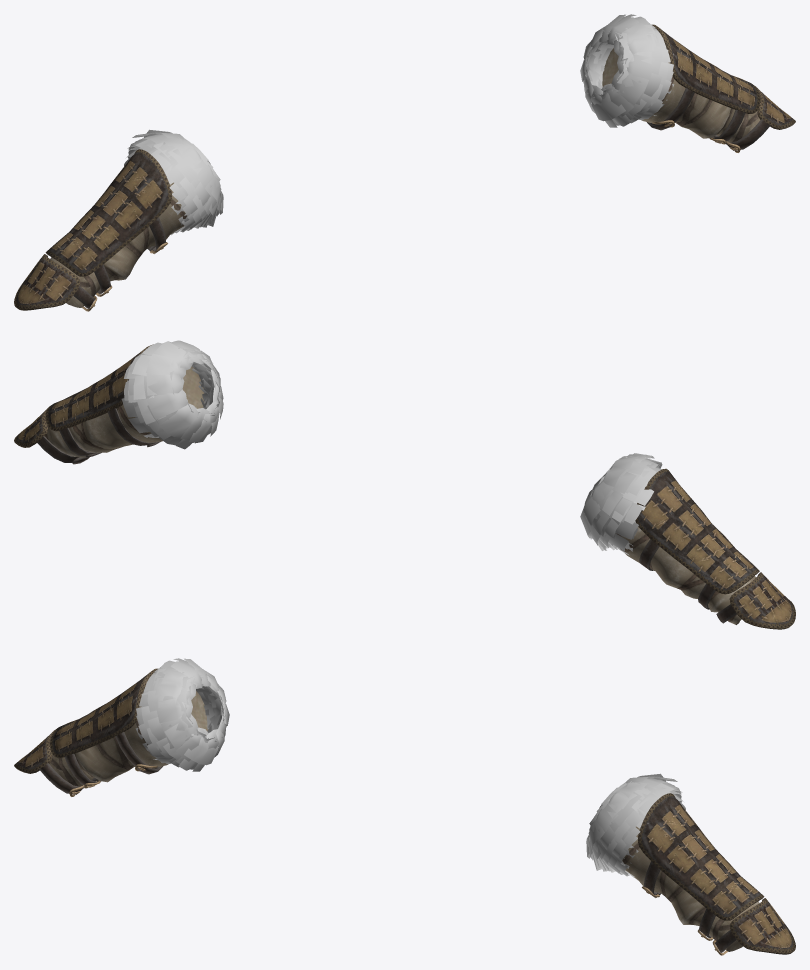
File: dunland_wulf_bracer_heavy_e.fbx
The picture shows the model from 3 angles, top to bottom: view 1: azimuth 30°, elevation 25°; view 2: azimuth 150°, elevation 25°; view 3: azimuth 330°, elevation 25°; orthographic projection.
Visible parts, largest first — view 1: dunland_wulf_bracer_heavy_e.0, dunland_wulf_bracer_heavy_e.1; view 2: dunland_wulf_bracer_heavy_e.0, dunland_wulf_bracer_heavy_e.1; view 3: dunland_wulf_bracer_heavy_e.0, dunland_wulf_bracer_heavy_e.1.
Part boxes in pixels (x1,y1,x2,y2): dunland_wulf_bracer_heavy_e.0: [14, 24, 795, 311]; dunland_wulf_bracer_heavy_e.1: [124, 14, 674, 235]; dunland_wulf_bracer_heavy_e.0: [14, 344, 795, 629]; dunland_wulf_bracer_heavy_e.1: [121, 340, 662, 555]; dunland_wulf_bracer_heavy_e.0: [14, 668, 795, 955]; dunland_wulf_bracer_heavy_e.1: [135, 658, 685, 877].
Bounding box in the file's own units: 1.49 × 0.1933 × 0.27.
